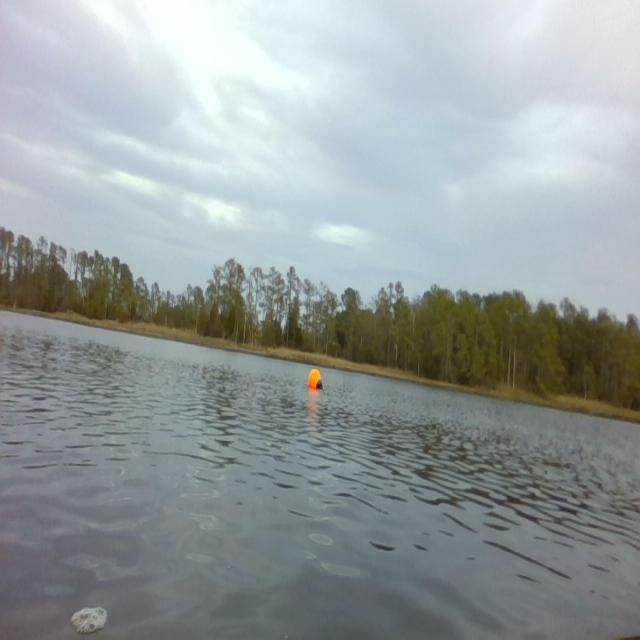Buoy: (307, 367, 325, 393)
